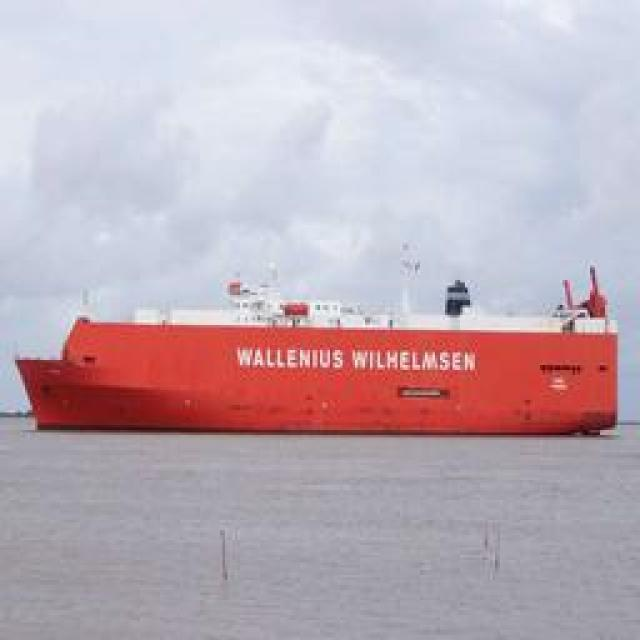ship2: (15, 242, 620, 436)
